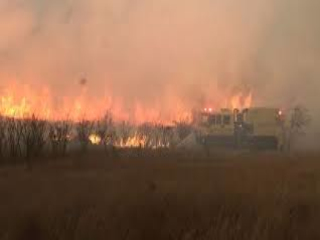fire: (3, 75, 267, 129), (89, 130, 179, 156)
smoke: (3, 5, 316, 103)
